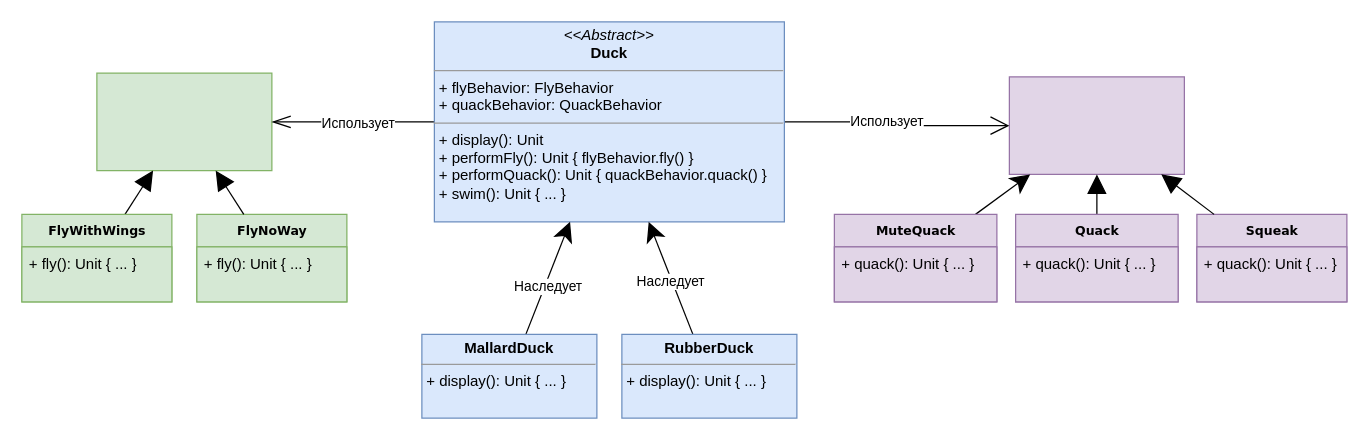
Image size: 1369x440. Some labels were removed from this diagram. The box of each missing label's shape, as (x1, y1, x2, y2) in pixels:
<<Interface>> FlyBehavior + fly(): Unit: (96, 72, 272, 171)
<<Interface>> QuackBehavior + quack(): Unit: (1008, 76, 1184, 174)
